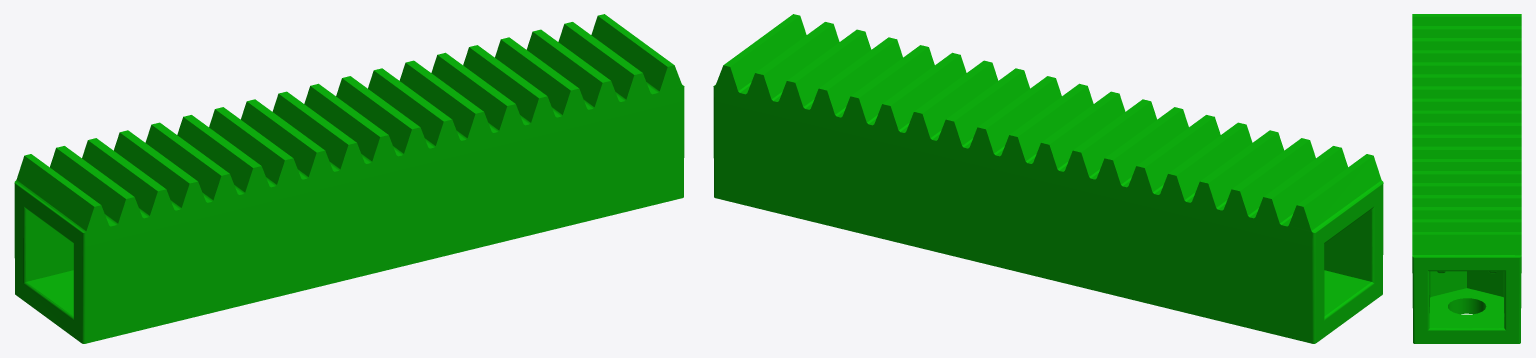
File: RackGearV2.fbx
The picture shows the model from 3 angles, left to right: view 1: azimuth 30°, elevation 25°; view 2: azimuth 150°, elevation 25°; view 3: azimuth 270°, elevation 25°; orthographic projection. The views are drawn at different scales.
Visible parts, largest first — view 1: Rack Gear v2; view 2: Rack Gear v2; view 3: Rack Gear v2.
Boxes of the visible parts, box(x1,y1,x2,y2) form: Rack Gear v2: box(14, 14, 684, 343); Rack Gear v2: box(713, 14, 1383, 343); Rack Gear v2: box(1412, 14, 1521, 343).
Size of the model in its own units: 6300 by 1453 by 1270.
